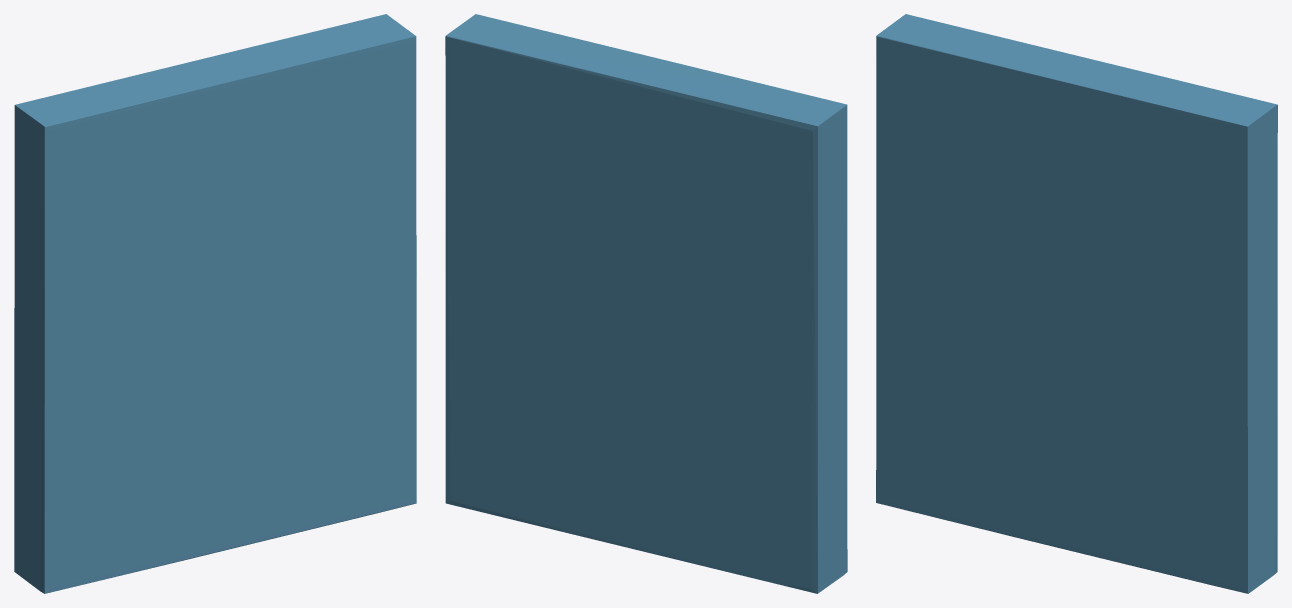
The model's file is pallet_block_a02.glb.
The picture shows the model from 3 angles, left to right: view 1: azimuth 30°, elevation 25°; view 2: azimuth 150°, elevation 25°; view 3: azimuth 330°, elevation 25°; orthographic projection.
Visible parts, largest first — view 1: geometry_0; view 2: geometry_0; view 3: geometry_0.
Boxes of the visible parts, x1=… form: geometry_0: x1=14, y1=14, x2=416, y2=593; geometry_0: x1=445, y1=14, x2=847, y2=593; geometry_0: x1=876, y1=14, x2=1277, y2=593.
Bounding box in the file's own units: 0.3999 × 0.48 × 0.0562.
